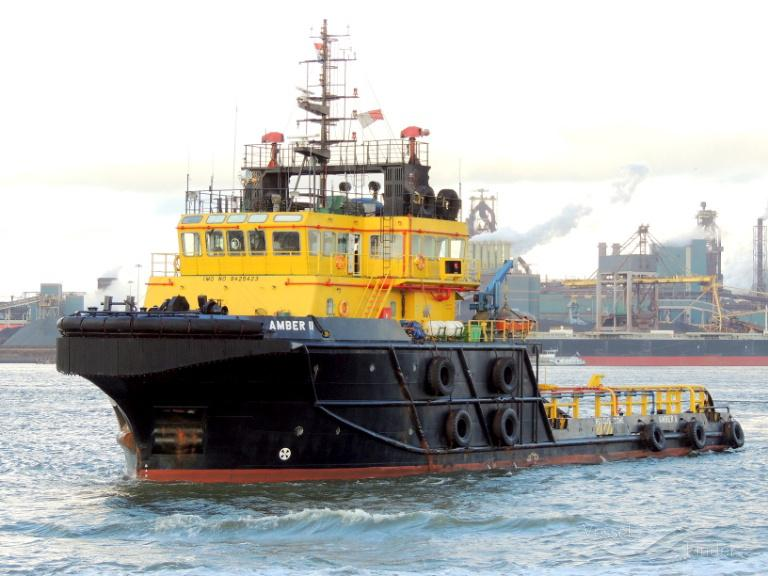OCR: (264, 316, 317, 341)
